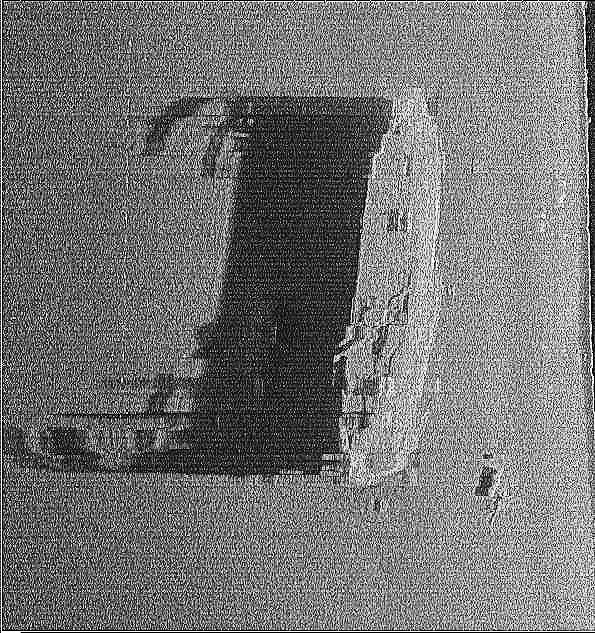ship: (330, 82, 453, 497)
